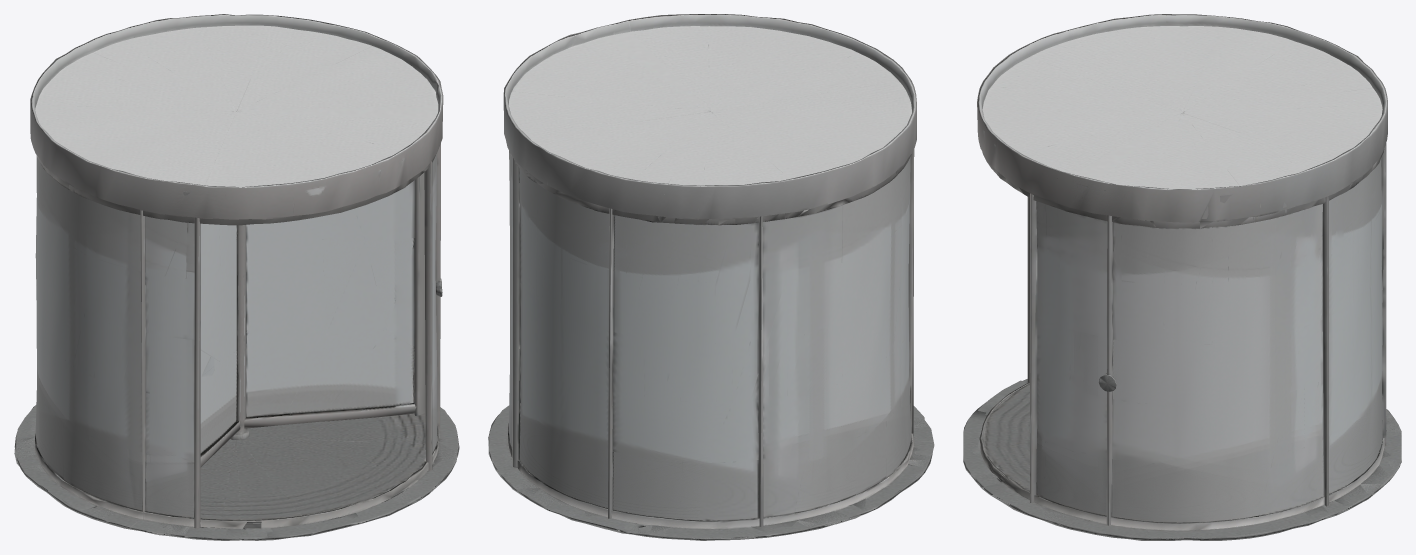
The model's file is Meshy_AI_a_revolving_door_0903105938_texture.glb.
3 renders of one model, left to right at view 1: azimuth 30°, elevation 25°; view 2: azimuth 150°, elevation 25°; view 3: azimuth 270°, elevation 25°, orthographic.
Visible parts, largest first — view 1: mesh_node; view 2: mesh_node; view 3: mesh_node.
Part boxes in pixels (box(x1,y1,x2,y2)): mesh_node: box(14, 14, 459, 540); mesh_node: box(488, 14, 934, 540); mesh_node: box(963, 14, 1401, 540).
Size of the model in its own units: 1 by 0.875 by 1.
1 material, 1 textured.
